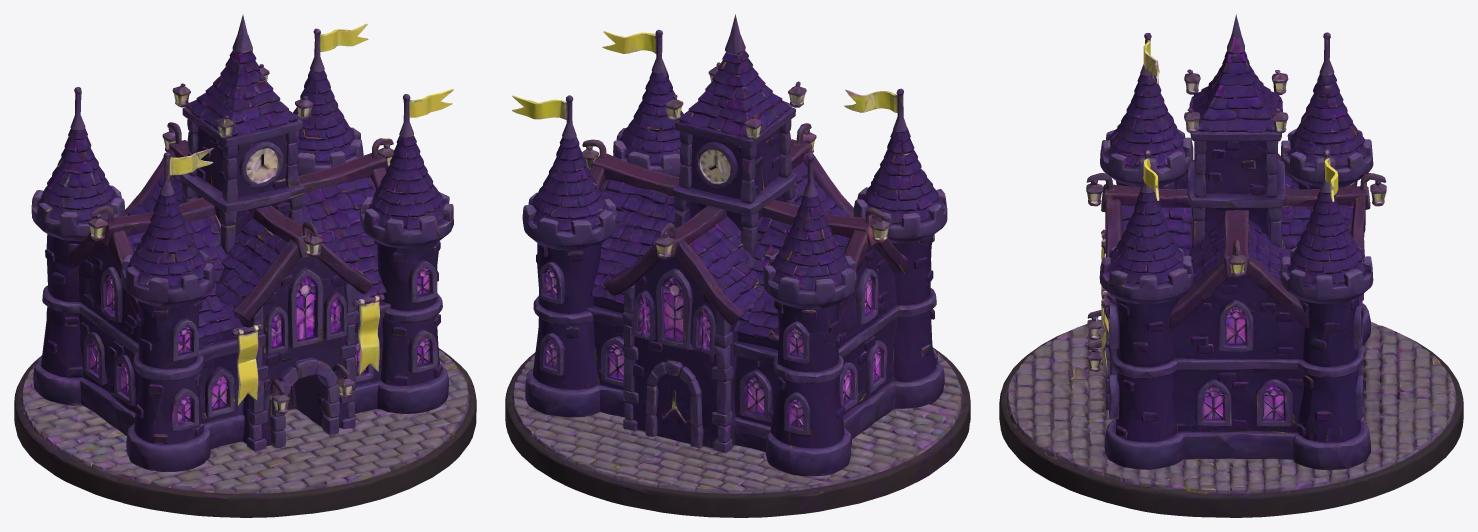
Rendered from school-hub-v1.glb.
3 views of the same model, side by side, from view 1: azimuth 30°, elevation 25°; view 2: azimuth 150°, elevation 25°; view 3: azimuth 270°, elevation 25° (orthographic).
Size of the model in its own units: 1.9 by 1.84 by 1.9.
Materials: 1 (1 with a texture image).
